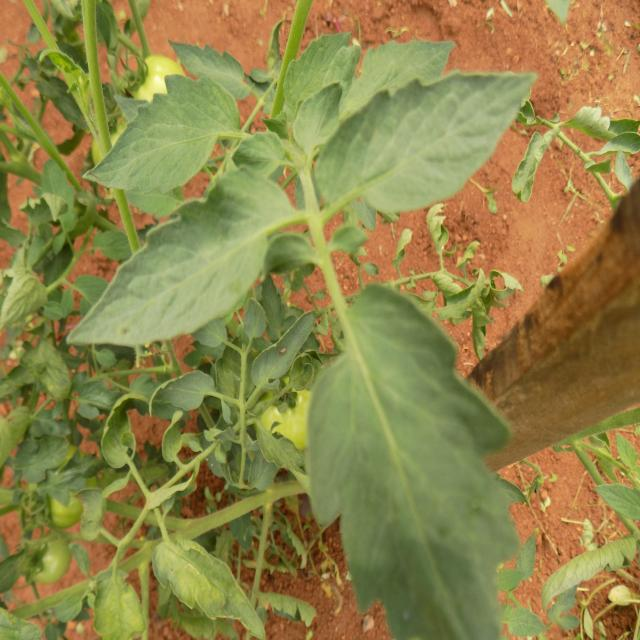tomato_healthy: (304, 287, 528, 640), (64, 163, 298, 348), (308, 65, 539, 222), (84, 67, 242, 190)
